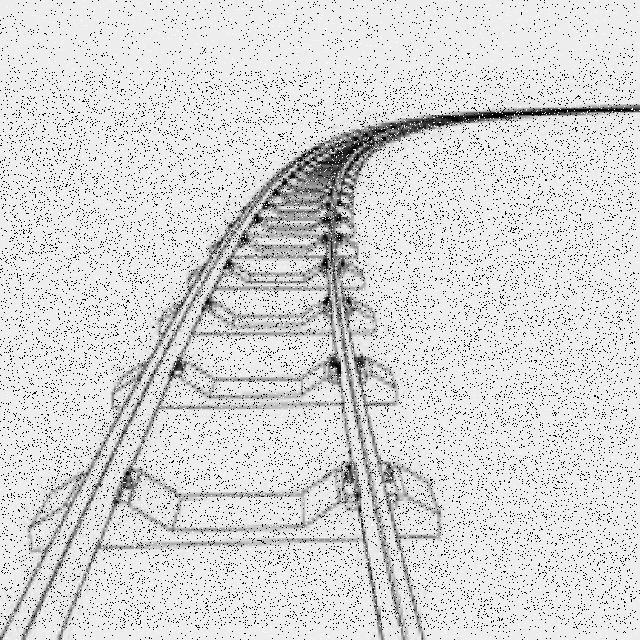rail: (4, 93, 640, 640)
